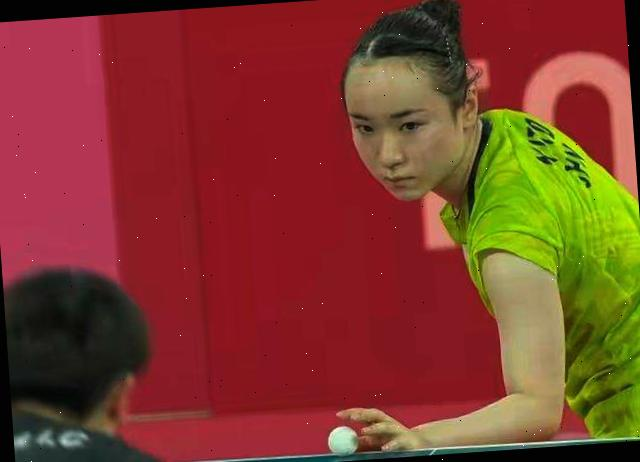ball: (322, 420, 362, 457)
